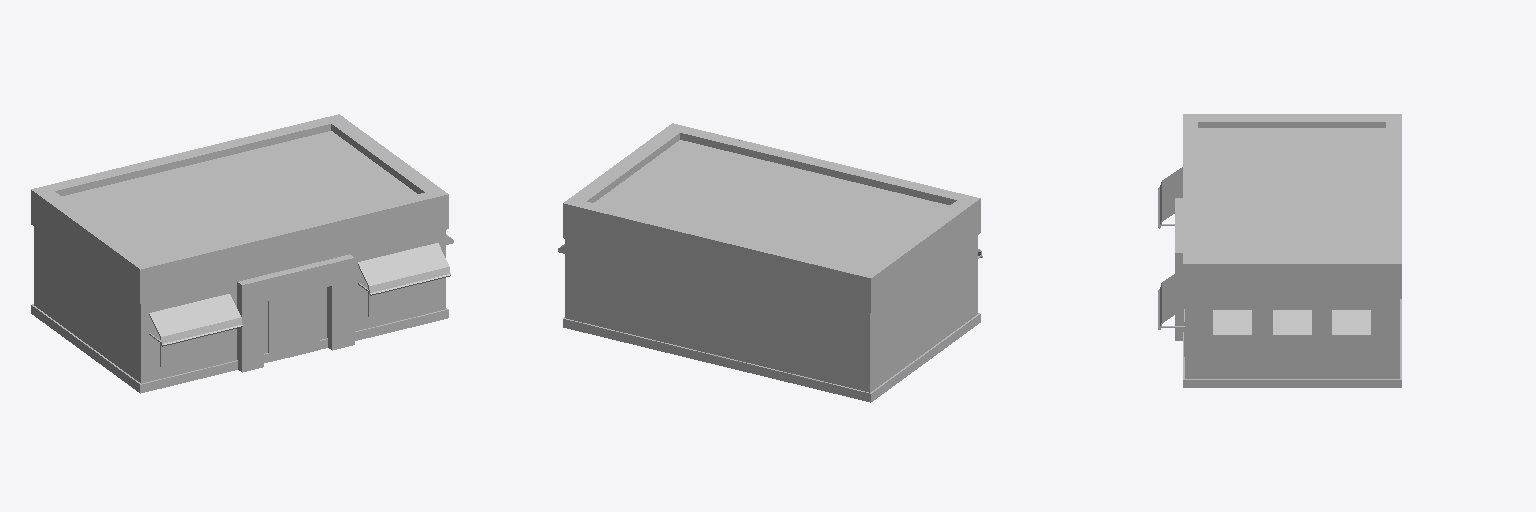
The model's file is Building_Coffee Shop.obj.
3 views of the same model, side by side, from view 1: azimuth 30°, elevation 25°; view 2: azimuth 150°, elevation 25°; view 3: azimuth 270°, elevation 25° (orthographic).
Parts seen in each view (by area): view 1: Building_Coffee_Shop; view 2: Building_Coffee_Shop; view 3: Building_Coffee_Shop.
Part boxes in pixels (x1,y1,x2,y2): Building_Coffee_Shop: (31,114,453,393); Building_Coffee_Shop: (558,123,982,402); Building_Coffee_Shop: (1158,114,1401,387).
Bounding box in the file's own units: 763 × 276 × 490.